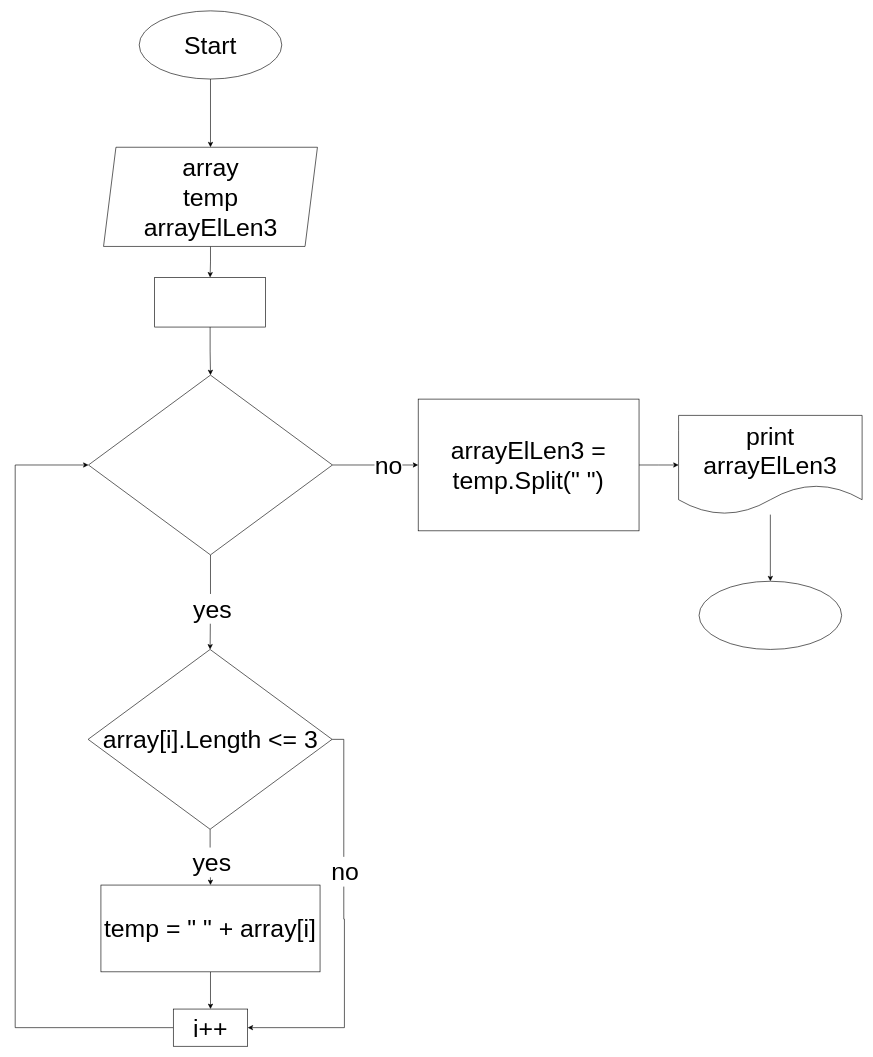
This 873x1057 diagram has some shape labels left out. Here are the shapes that lost their labels. From the top down, the centre of each, then its label:
At (210,302): "i = 0".
At (210,464): "i < array.Length".
At (770,615): "End".
